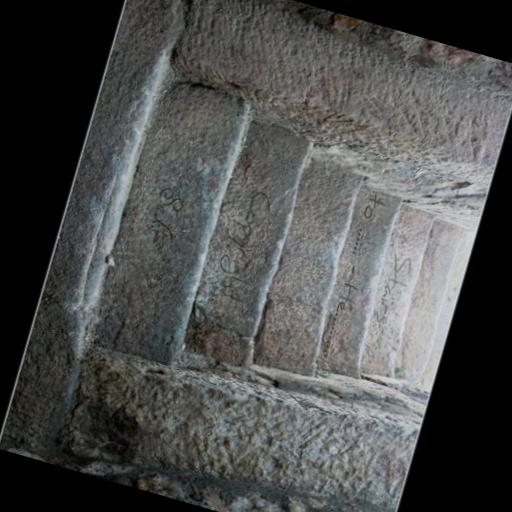stairs: (95, 84, 460, 381)
